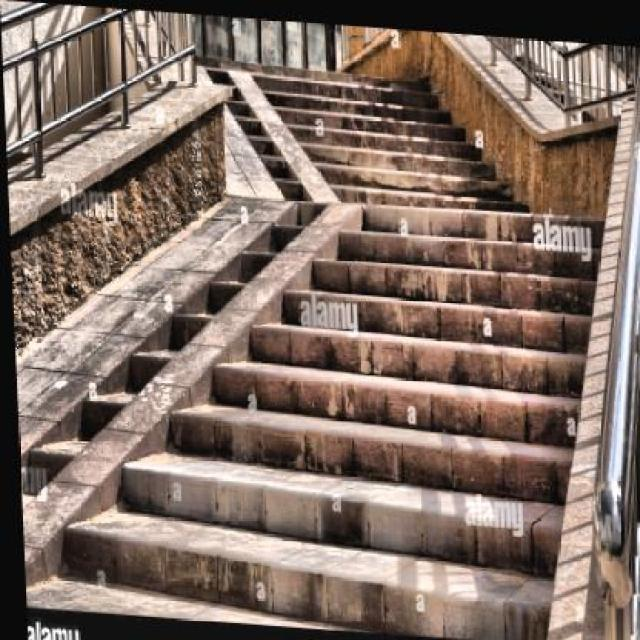stair: (60, 176, 614, 638), (257, 74, 514, 198)
